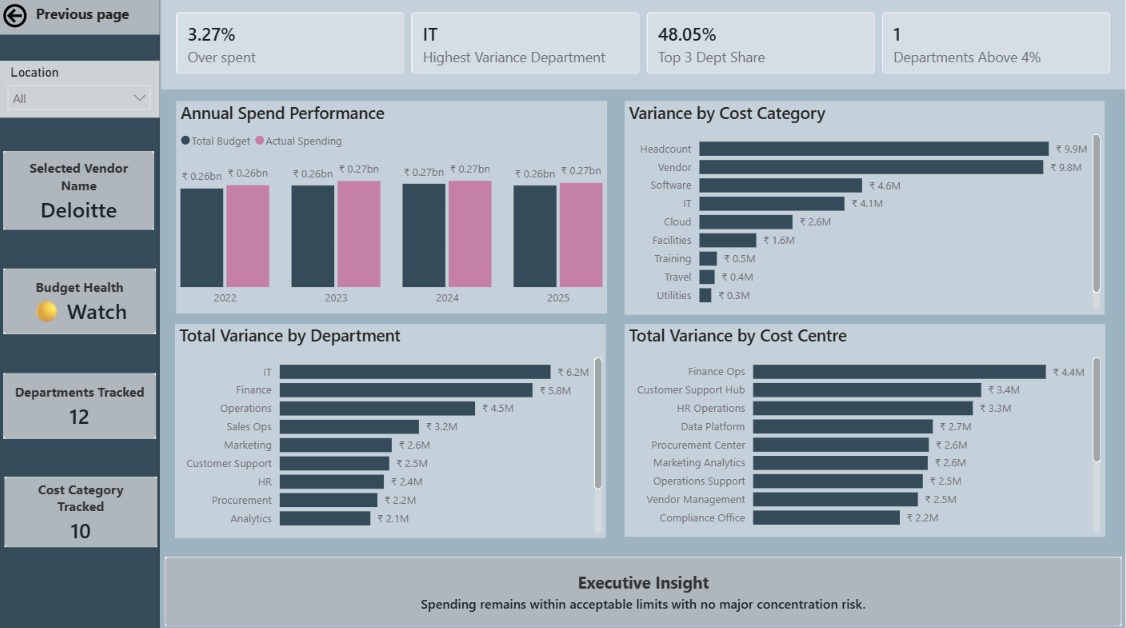

The page's visual inventory and layout, read from the dashboard file:
{"tool":"powerbi","page":{"name":"Vendor wise drillthrough","canvas":[1280,720],"ordinal":3},"visuals":[{"type":"cardVisual","fields":{"Data":["Measure Table.%Over spent","KPI Table.Highest Variance Department","Measure Table.Top 3 Dept Contribution %","Measure Table.Critical Departments"]},"box":[184.1,0,1095.5,104.2],"z":0},{"type":"shape","box":[0,1.4,182.3,718],"z":0,"group":"g1"},{"type":"clusteredColumnChart","title":"Annual Spend Performance","fields":{"Category":["Calender.Date.Variation.Date Hierarchy.Year"],"Y":["Measure Table.Total Budget","Measure Table.Actual Spending"]},"box":[200.4,117.9,489.1,241.6],"z":1000},{"type":"cardVisual","fields":{"Data":["Measure Table.Selected Vendor Name"]},"box":[0,170.3,182,99.3],"z":1000,"group":"g1"},{"type":"textbox","box":[0,2.3,182,40],"z":2000,"group":"g1"},{"type":"clusteredBarChart","title":"Variance by Cost Category","fields":{"Category":["COST_CATEGORY.Category_Name"],"Y":["Measure Table.Total Variance"]},"box":[709.9,117.2,544.5,242.6],"z":2000},{"type":"actionButton","box":[0,2.3,124.1,35.8],"z":3000,"group":"g1"},{"type":"clusteredBarChart","title":"Total Variance by Department","fields":{"Y":["Measure Table.Total Variance"],"Category":["DEPARTMENT.Department_Name"]},"box":[199.9,370.8,489.4,242.6],"z":3000},{"type":"clusteredBarChart","title":"Total Variance by Cost Centre","fields":{"Y":["Measure Table.Total Variance"],"Category":["COST_CENTRE.Cost_Centre_Name"]},"box":[710.1,371.2,545.1,241.6],"z":4000},{"type":"group","id":"g1","title":"Group 1","box":[0,1.4,182.3,718],"z":5000},{"type":"cardVisual","fields":{"Data":["Measure Table.Departments Tracked"]},"box":[0,421.1,183.3,84.1],"z":6000},{"type":"cardVisual","fields":{"Data":["Measure Table.Cost Category Tracked"]},"box":[1.4,539,183.3,91],"z":7000},{"type":"cardVisual","fields":{"Data":["Measure Table.Budget Health"]},"box":[0,303.3,183.3,84.1],"z":8000},{"type":"cardVisual","fields":{"Data":["KPI Table.Executive Insight"]},"box":[183.3,628.6,1097.3,91],"z":9000},{"type":"slicer","fields":{"Values":["DEPARTMENT.Location"]},"box":[0,71.7,182,64.8],"z":10000}]}

Visuals, with their boxes in screenshot pixels (x1, y1, x2, y2), scaled from the page's 1280x720 canvas onto the 1126x628 screenshot:
cardVisual - Measure Table.%Over spent x KPI Table.Highest Variance Department: 162:0:1125:91
shape: 0:1:160:627
"Annual Spend Performance" clusteredColumnChart: 176:103:607:314
cardVisual - Measure Table.Selected Vendor Name: 0:149:160:235
textbox: 0:2:160:37
"Variance by Cost Category" clusteredBarChart: 624:102:1103:314
actionButton: 0:2:109:33
"Total Variance by Department" clusteredBarChart: 176:323:606:535
"Total Variance by Cost Centre" clusteredBarChart: 625:324:1104:534
"Group 1" group: 0:1:160:627
cardVisual - Measure Table.Departments Tracked: 0:367:161:441
cardVisual - Measure Table.Cost Category Tracked: 1:470:162:550
cardVisual - Measure Table.Budget Health: 0:265:161:338
cardVisual - KPI Table.Executive Insight: 161:548:1125:627
slicer - DEPARTMENT.Location: 0:63:160:119
